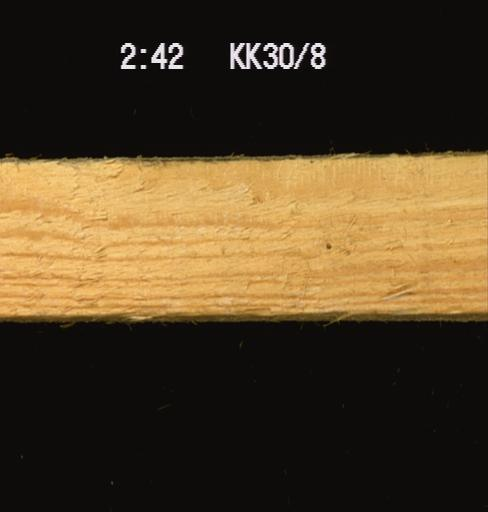small_knot: (318, 235, 337, 253)
